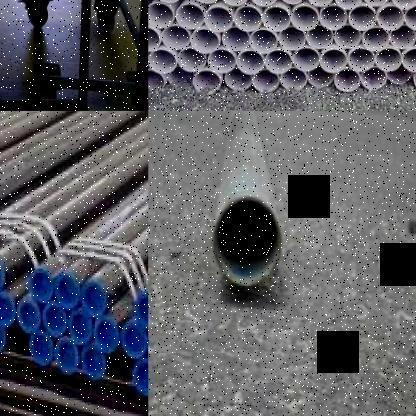pipe: (213, 194, 281, 288), (52, 268, 83, 311), (14, 292, 44, 336), (90, 314, 122, 354), (51, 333, 81, 375), (80, 277, 110, 317), (40, 299, 70, 338), (66, 308, 96, 346), (78, 344, 108, 382), (119, 321, 148, 360), (29, 265, 54, 306), (28, 331, 55, 368), (175, 4, 205, 30), (204, 6, 233, 32), (190, 29, 220, 54), (233, 6, 262, 31), (262, 6, 290, 31), (375, 47, 403, 72), (178, 48, 206, 73), (192, 70, 222, 93), (0, 287, 17, 327), (377, 6, 404, 31), (389, 25, 416, 50), (320, 6, 348, 30), (162, 26, 190, 50), (292, 47, 320, 71), (208, 50, 236, 74), (320, 50, 348, 74), (264, 50, 292, 74), (236, 50, 264, 74), (347, 49, 376, 72), (148, 3, 174, 28), (349, 6, 376, 30), (291, 6, 318, 30), (306, 26, 333, 50), (222, 27, 249, 51), (250, 30, 277, 54), (334, 68, 361, 92), (131, 359, 148, 396), (361, 66, 387, 90), (279, 27, 306, 50), (334, 26, 362, 48), (362, 28, 390, 50), (148, 50, 176, 72), (252, 70, 280, 92), (225, 68, 252, 90), (280, 68, 307, 90), (134, 289, 148, 331), (308, 66, 334, 88), (387, 64, 413, 83), (168, 67, 194, 86), (148, 70, 166, 92), (402, 49, 416, 72), (148, 26, 160, 52), (404, 5, 416, 30), (0, 257, 7, 299), (335, 0, 363, 9), (0, 321, 7, 354), (391, 0, 416, 9), (305, 0, 334, 6), (220, 0, 248, 6), (249, 0, 277, 6), (362, 0, 389, 6), (414, 67, 416, 90)
